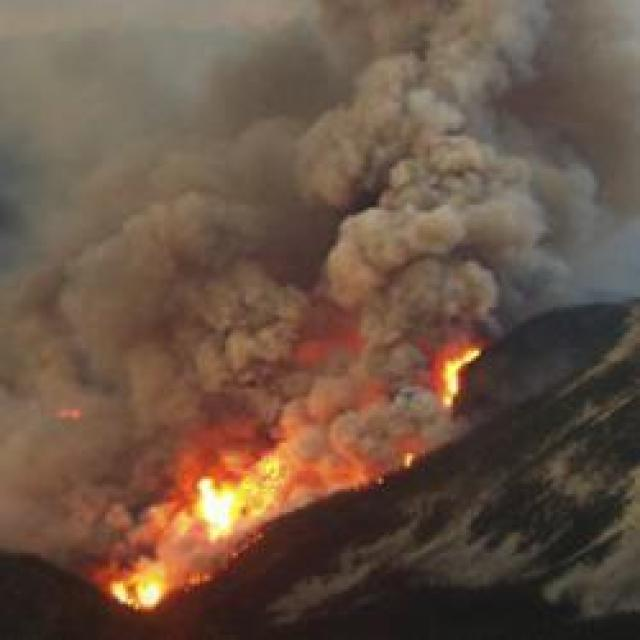Fire: (186, 453, 306, 548), (108, 551, 178, 612), (432, 341, 486, 414)
Smoke: (0, 2, 335, 440), (343, 1, 638, 332), (3, 444, 162, 544)
